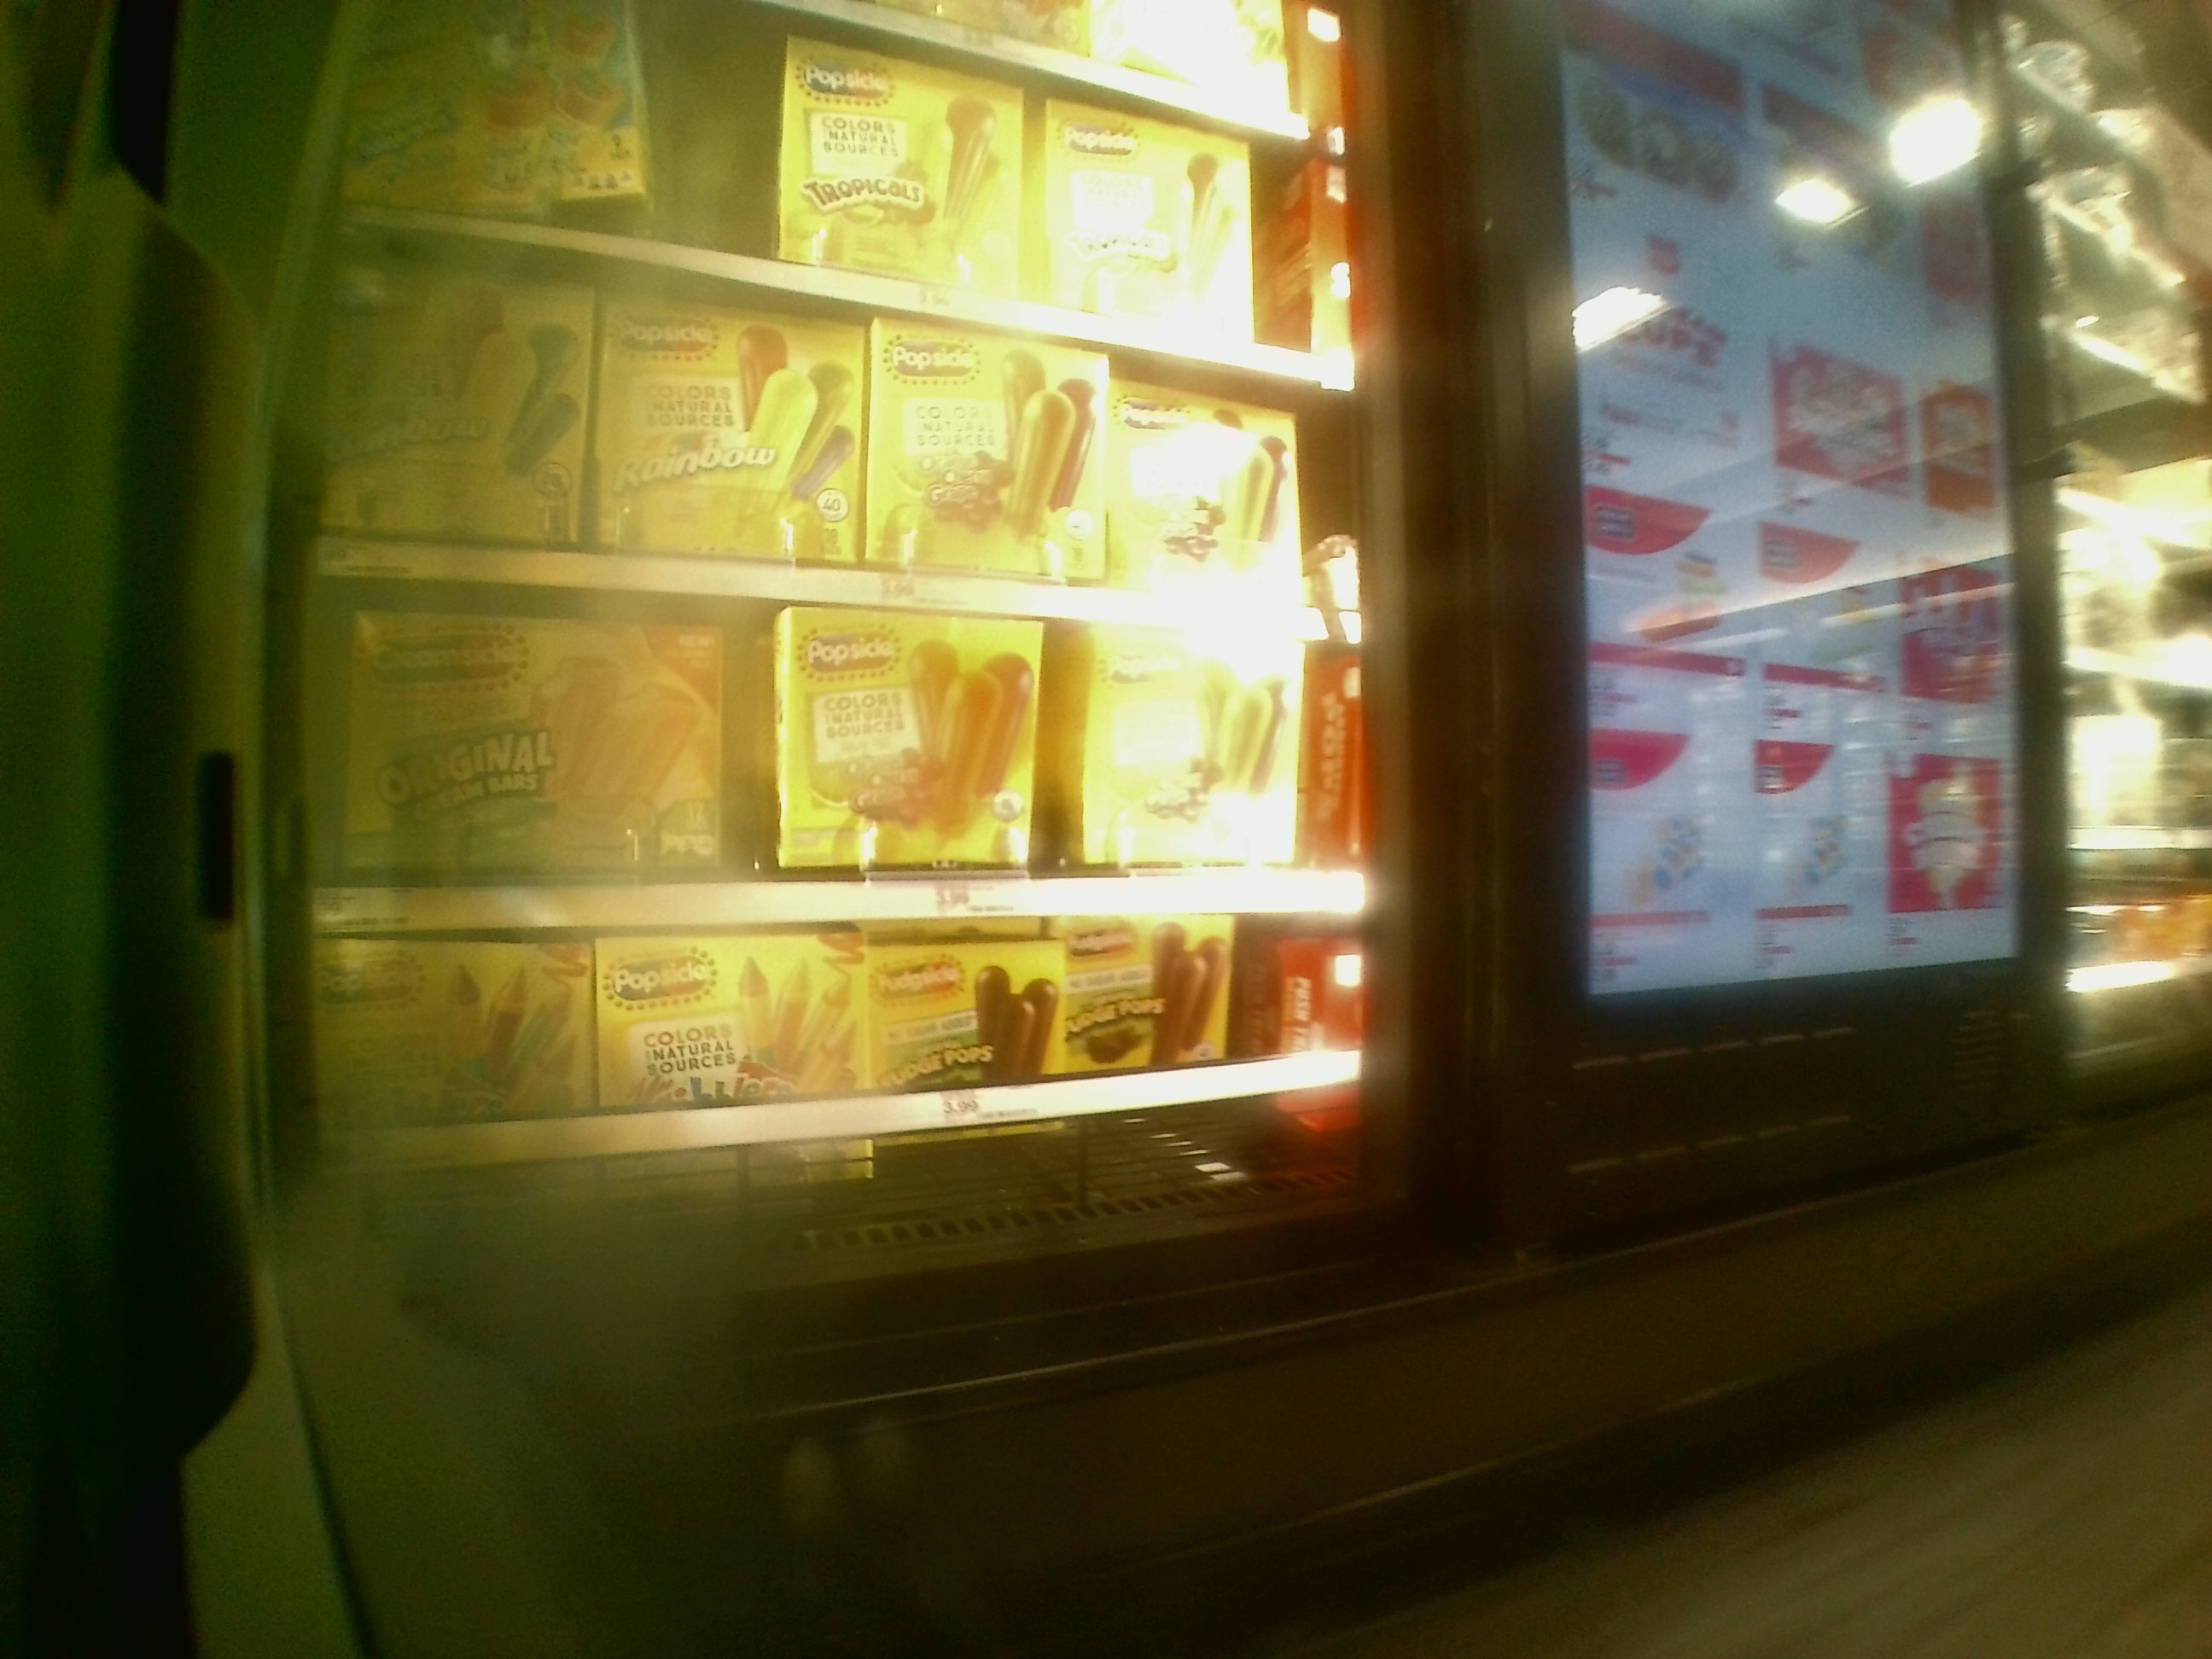frozen-food-shelf: (320, 932, 1360, 1147)
